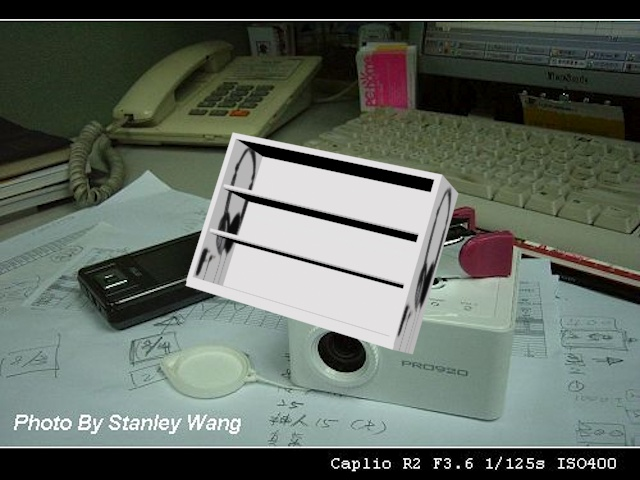bookcase: (185, 129, 464, 360)
